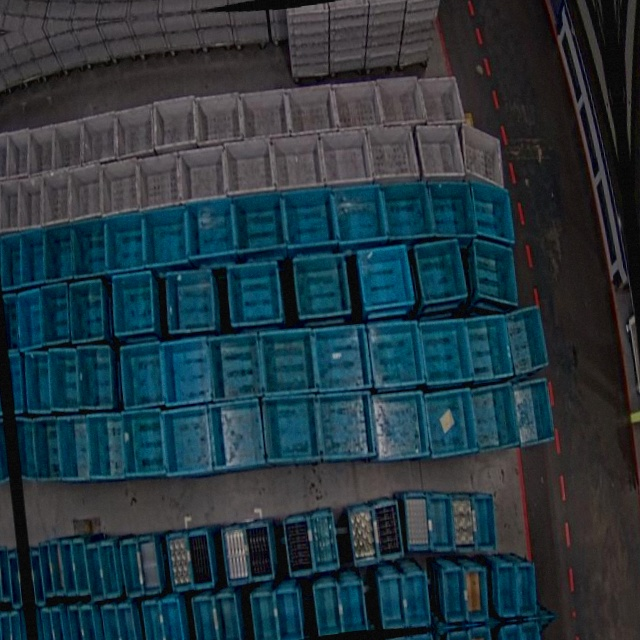Box: (223, 258, 286, 333), (290, 250, 353, 324), (355, 242, 417, 316), (366, 316, 427, 391), (257, 325, 319, 398), (312, 323, 374, 395), (420, 384, 479, 459), (369, 388, 428, 463), (466, 235, 521, 313), (160, 266, 219, 338), (261, 393, 319, 466), (314, 389, 371, 463), (279, 184, 340, 253), (470, 379, 525, 452), (413, 236, 471, 305), (417, 315, 472, 387), (232, 190, 291, 257), (330, 181, 388, 249), (214, 399, 267, 471), (161, 335, 214, 407), (367, 122, 423, 190), (269, 132, 327, 197), (318, 127, 374, 194), (381, 176, 436, 244), (507, 375, 558, 448), (222, 136, 279, 201), (184, 196, 240, 262), (212, 332, 264, 403), (465, 311, 517, 382), (164, 406, 216, 476), (423, 175, 477, 242), (414, 120, 470, 184), (118, 340, 168, 410), (468, 180, 517, 251), (120, 408, 169, 479), (176, 144, 230, 208), (109, 270, 159, 339), (141, 203, 194, 268), (505, 303, 550, 378), (236, 86, 292, 146), (330, 76, 386, 136), (191, 88, 246, 149), (282, 79, 338, 138), (461, 119, 505, 193), (412, 72, 465, 133), (148, 93, 200, 154), (374, 74, 426, 134), (135, 152, 185, 214), (102, 212, 150, 275), (74, 344, 119, 411), (67, 278, 111, 344), (111, 101, 159, 161), (76, 109, 123, 168), (98, 158, 144, 216), (70, 217, 112, 278), (48, 347, 86, 412), (65, 165, 107, 223), (39, 222, 79, 282), (58, 416, 94, 482), (83, 414, 118, 481), (36, 171, 76, 228), (39, 283, 75, 346), (371, 498, 405, 563), (31, 417, 65, 482), (424, 491, 458, 555), (21, 351, 55, 415), (349, 502, 383, 565), (306, 508, 339, 572), (23, 123, 62, 177), (12, 176, 50, 231), (400, 490, 433, 553), (49, 120, 87, 174), (15, 226, 49, 286), (284, 513, 315, 577), (15, 289, 47, 350), (245, 520, 276, 582), (400, 570, 432, 629), (447, 494, 477, 556), (222, 524, 252, 586), (470, 493, 500, 555), (186, 527, 215, 590), (439, 566, 469, 625), (494, 561, 524, 620), (378, 577, 409, 634), (3, 127, 36, 180), (166, 530, 194, 592), (272, 586, 304, 640), (463, 564, 491, 624), (336, 579, 367, 633), (313, 584, 344, 636), (137, 533, 163, 594), (251, 589, 282, 640), (15, 415, 38, 481), (118, 537, 142, 596), (0, 180, 26, 234), (515, 562, 540, 618), (0, 233, 25, 289), (213, 592, 242, 640), (1, 293, 23, 354), (192, 595, 220, 640), (69, 536, 90, 596), (97, 539, 118, 598), (8, 352, 27, 416), (58, 537, 78, 597), (160, 597, 187, 640), (46, 539, 65, 598), (37, 541, 56, 600), (142, 602, 168, 640), (117, 601, 141, 640), (29, 550, 45, 607), (100, 605, 124, 640), (80, 604, 101, 640), (68, 606, 87, 640), (50, 606, 69, 640), (0, 132, 12, 184), (60, 605, 77, 640), (40, 607, 58, 640), (286, 2, 329, 15), (327, 0, 369, 10), (366, 0, 406, 6), (403, 0, 442, 2)
